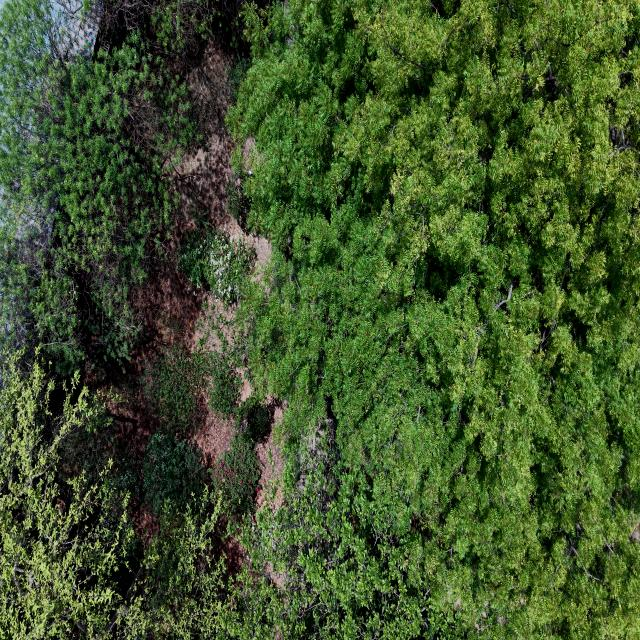DRY_AREA: (90, 42, 270, 461), (83, 259, 201, 467), (86, 260, 201, 460), (176, 44, 270, 277), (176, 43, 270, 274), (175, 42, 270, 267), (173, 41, 232, 231), (255, 398, 283, 505), (193, 411, 233, 467), (631, 519, 639, 542)
ROOFTOP_BUILDING: (51, 0, 101, 59)
VEGETATION_TREE: (0, 0, 639, 639), (229, 0, 639, 638), (0, 0, 227, 638), (0, 0, 211, 371), (234, 450, 639, 637), (0, 358, 224, 639), (0, 45, 170, 370), (0, 357, 134, 639), (116, 489, 225, 639), (143, 344, 239, 434), (143, 344, 217, 434), (178, 230, 255, 304), (142, 433, 203, 515), (208, 433, 258, 519), (207, 352, 240, 416), (234, 397, 270, 442), (225, 171, 249, 228)
